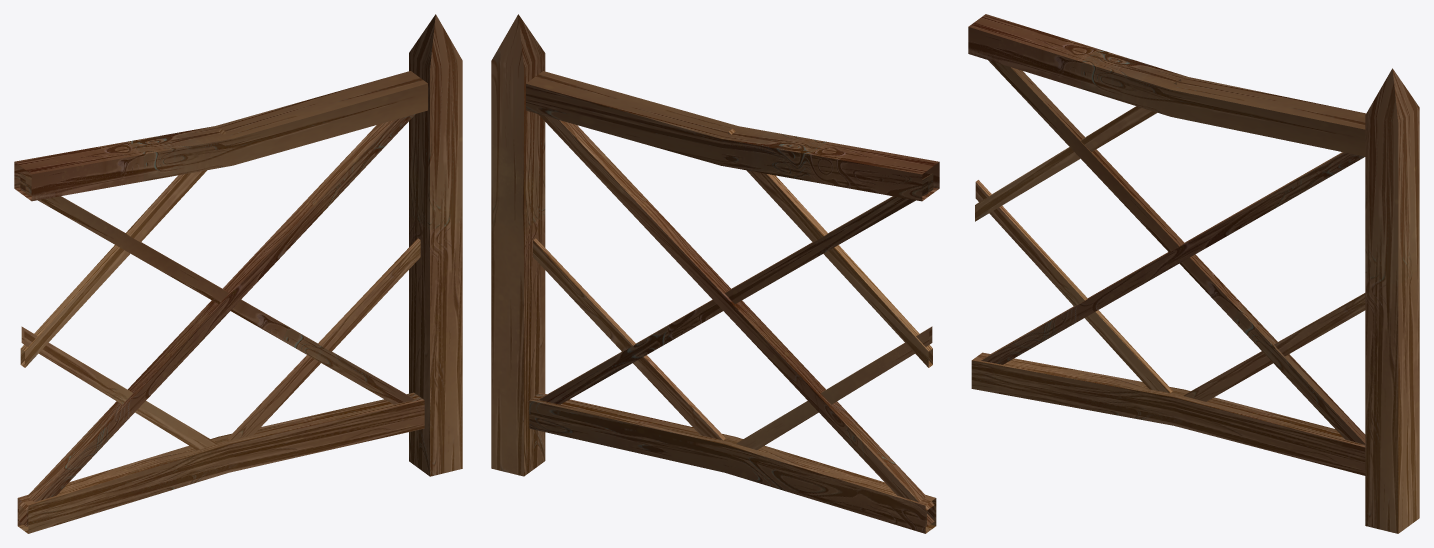
The model's file is Fence_V2.fbx.
3 renders of one model, left to right at view 1: azimuth 30°, elevation 25°; view 2: azimuth 150°, elevation 25°; view 3: azimuth 330°, elevation 25°, orthographic.
Visible parts, largest first — view 1: Fence_V2; view 2: Fence_V2; view 3: Fence_V2.
Part boxes in pixels (x1,y1,x2,y2): Fence_V2: (14,14,462,533); Fence_V2: (491,14,939,533); Fence_V2: (968,14,1419,533).
Bounding box in the file's own units: 203 × 204 × 17.42.
